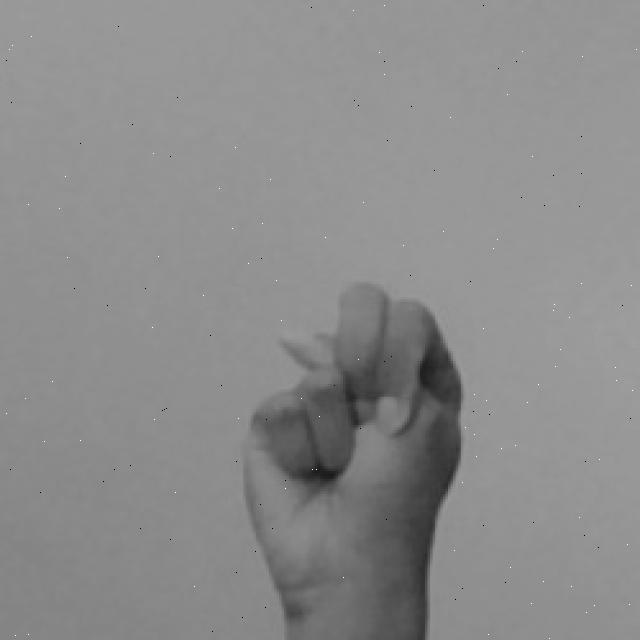N: (237, 278, 471, 640)
